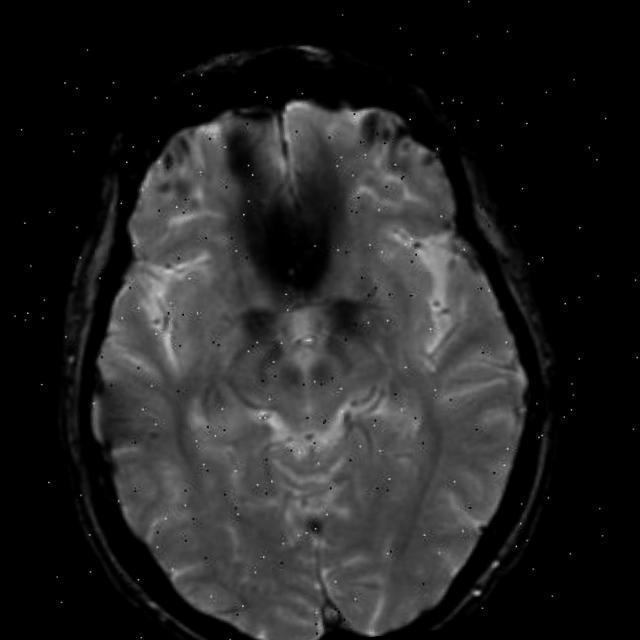MCI: (200, 164, 360, 334)
